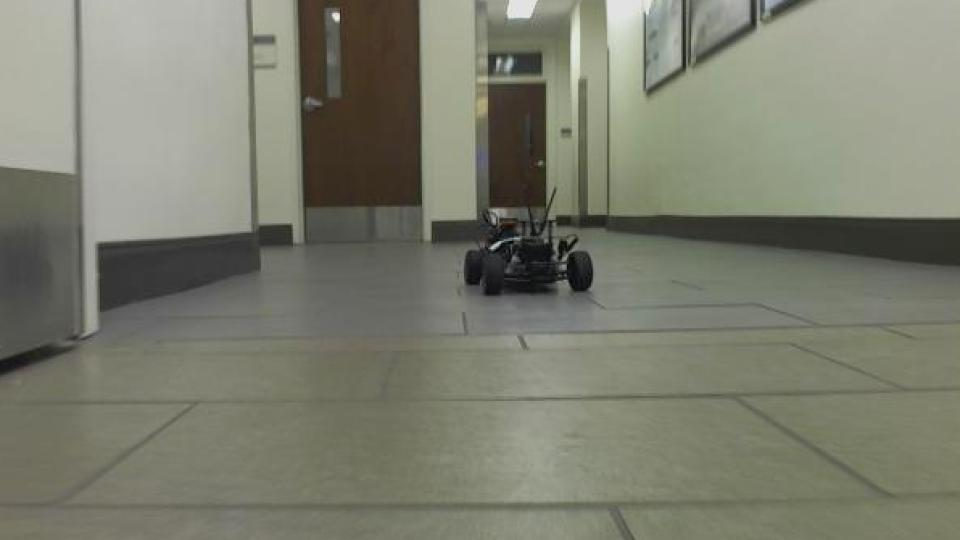car: (462, 184, 599, 299)
